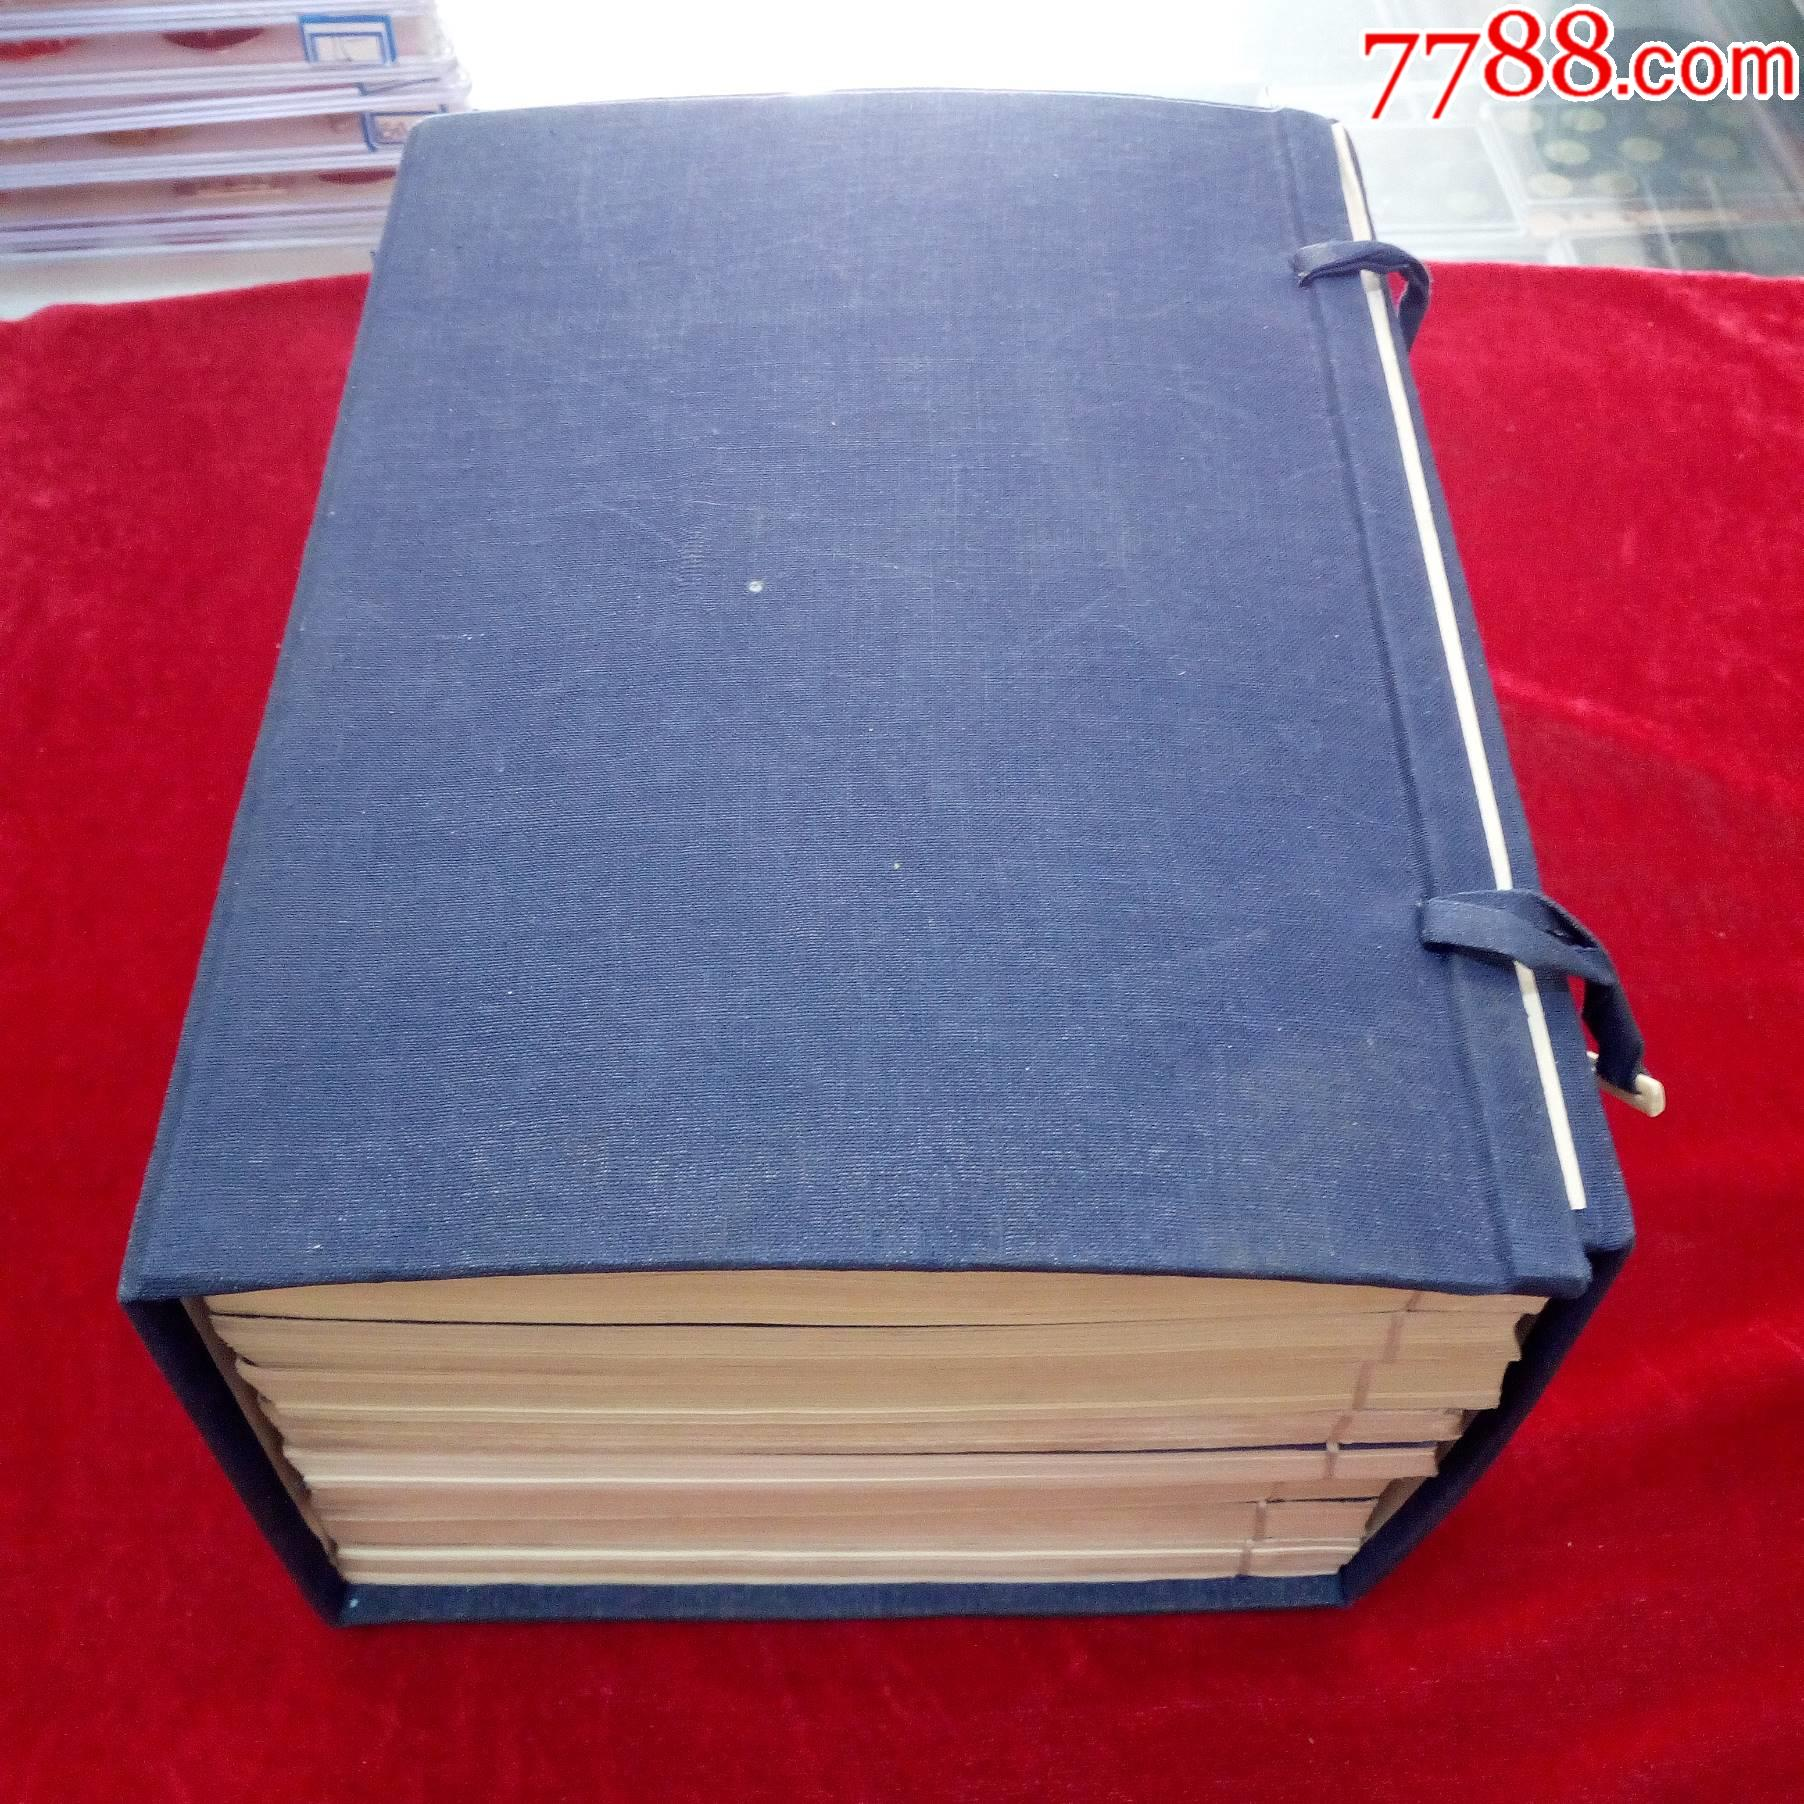book: (121, 78, 1654, 1619)
